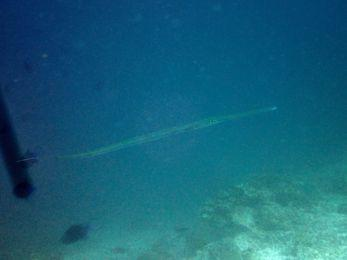Fistularia commersonii: (36, 83, 327, 173)
